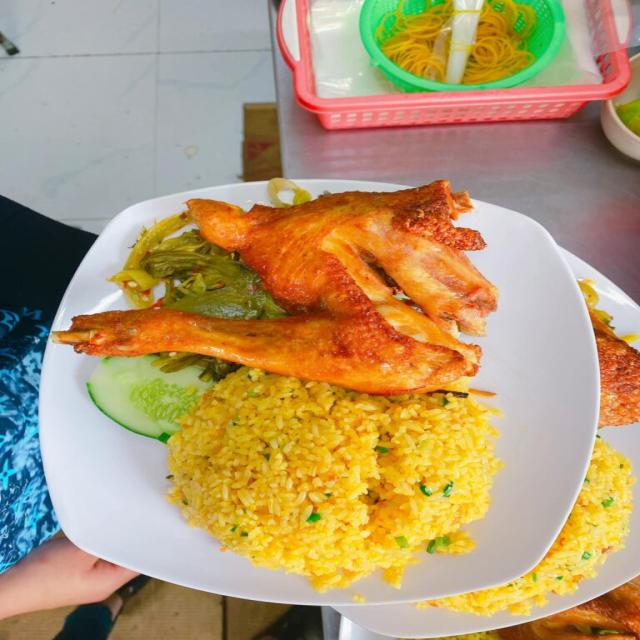dua leo: (87, 355, 213, 442)
ga chien: (58, 181, 498, 393)
